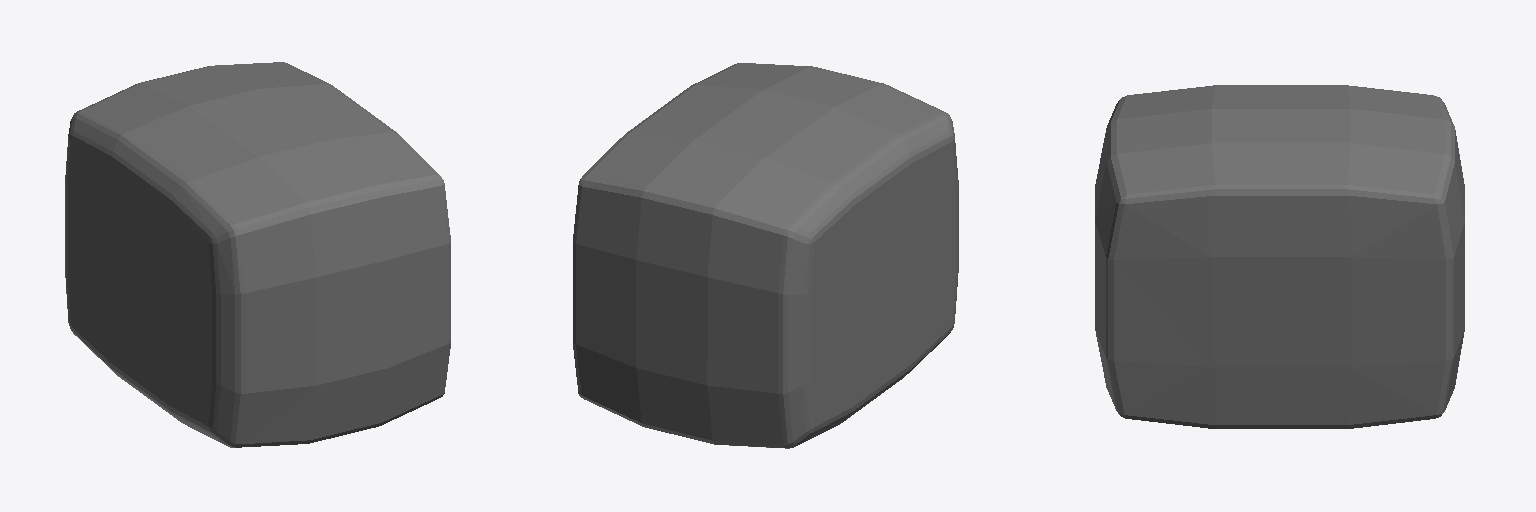
File: bush.obj
3 renders of one model, left to right at view 1: azimuth 30°, elevation 25°; view 2: azimuth 150°, elevation 25°; view 3: azimuth 270°, elevation 25°, orthographic.
Visible parts, largest first — view 1: square_hedge_Mesh; view 2: square_hedge_Mesh; view 3: square_hedge_Mesh.
Part boxes in pixels (x1,y1,x2,y2): square_hedge_Mesh: (65, 62, 450, 447); square_hedge_Mesh: (573, 63, 958, 448); square_hedge_Mesh: (1095, 85, 1464, 428).
Size of the model in its own units: 0.7629 by 0.8299 by 1.06.